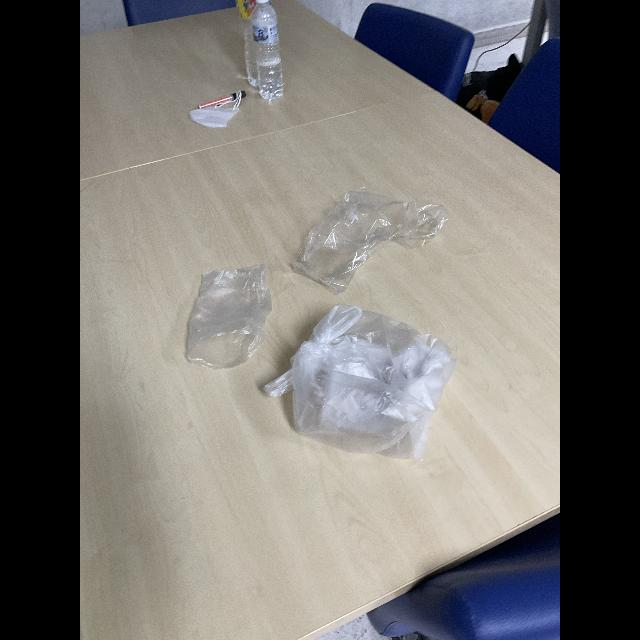plastic_bag: (271, 298, 447, 482)
plastic_bottle: (240, 0, 286, 112)
scrap_plastic: (282, 170, 452, 296), (168, 264, 288, 370)
